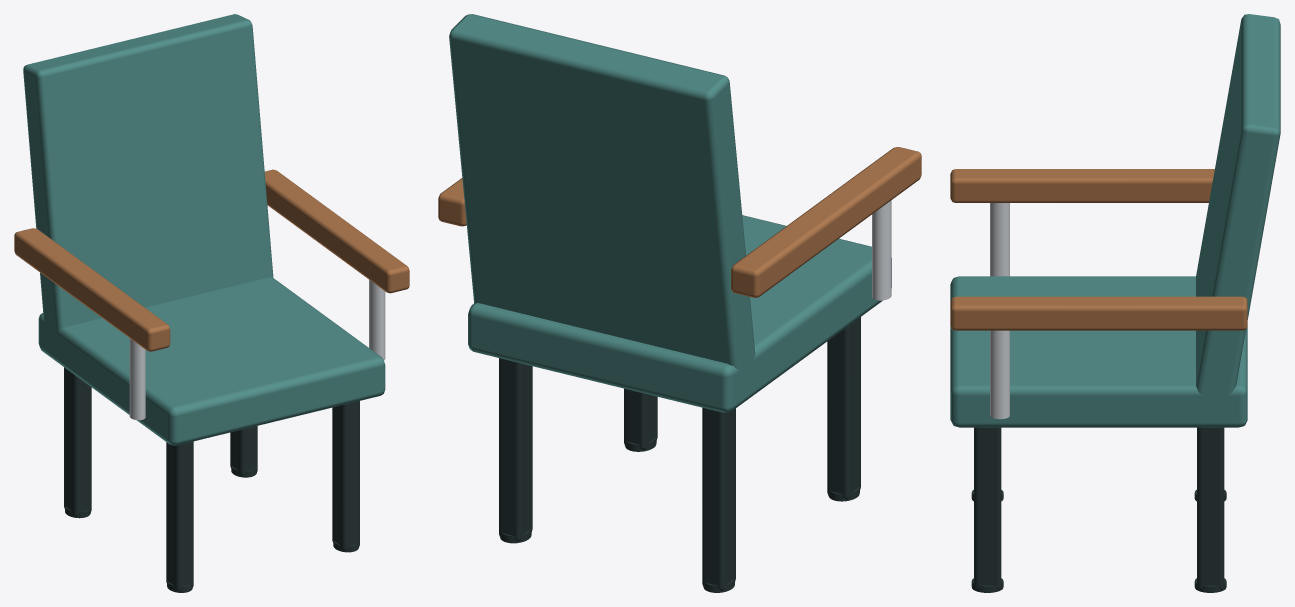
The model's file is wp-fauteuil-de-conference.glb.
3 renders of one model, left to right at view 1: azimuth 30°, elevation 25°; view 2: azimuth 150°, elevation 25°; view 3: azimuth 270°, elevation 25°, orthographic. The views are drawn at different scales.
Parts seen in each view (by area): view 1: wp-fauteuil-de-conference; view 2: wp-fauteuil-de-conference; view 3: wp-fauteuil-de-conference.
Boxes of the visible parts, x1=… form: wp-fauteuil-de-conference: x1=14, y1=14, x2=409, y2=592; wp-fauteuil-de-conference: x1=438, y1=14, x2=921, y2=592; wp-fauteuil-de-conference: x1=950, y1=14, x2=1280, y2=592.
Size of the model in its own units: 0.6 by 0.9482 by 0.5981.
